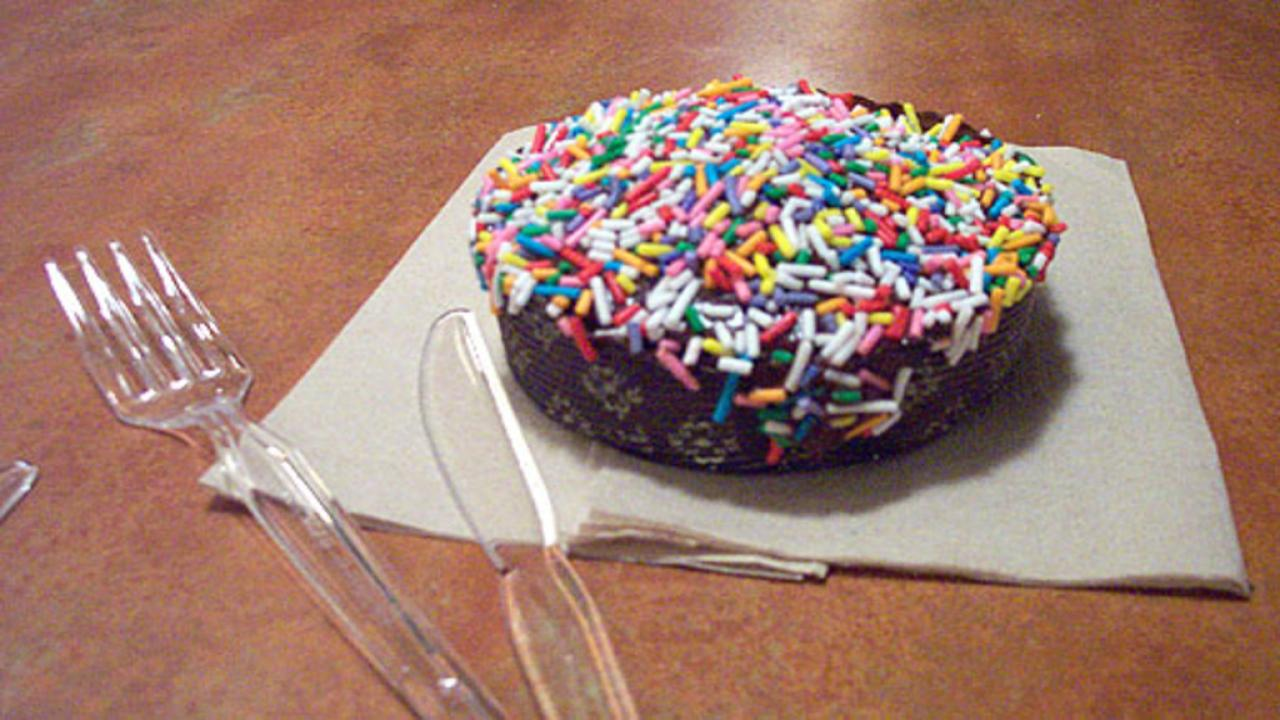fork: (34, 227, 509, 720)
